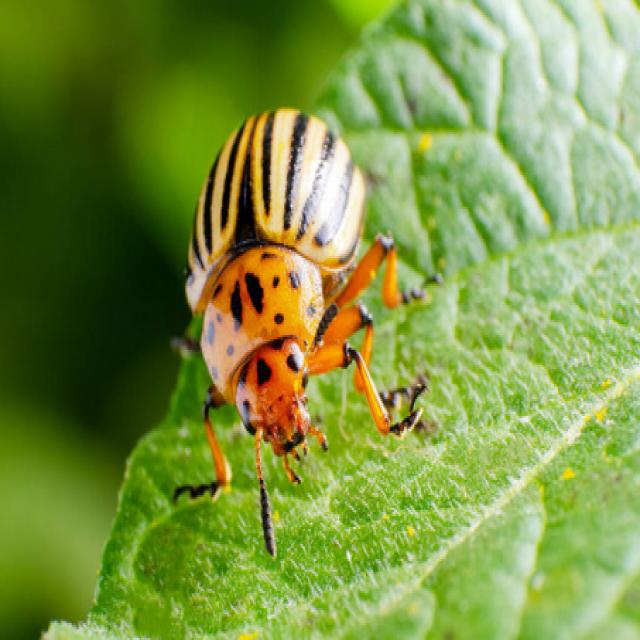ShuCaiHuaBanChong-Grown-: (178, 110, 398, 483)
